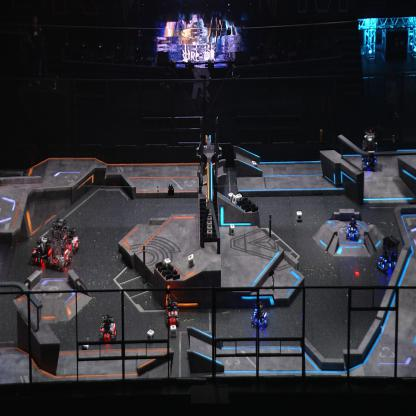car: (50, 217, 79, 255), (376, 233, 400, 274), (49, 228, 72, 269), (30, 234, 53, 266), (360, 132, 378, 172), (250, 301, 269, 330), (99, 312, 117, 341), (164, 296, 180, 326), (346, 217, 360, 241)
